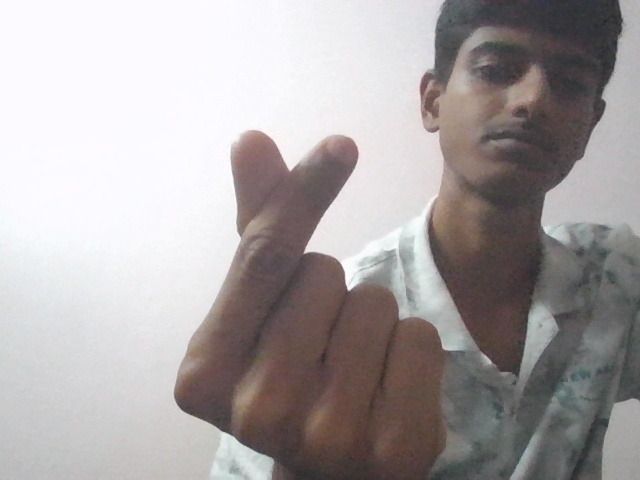iloveyou: (177, 126, 454, 469)
